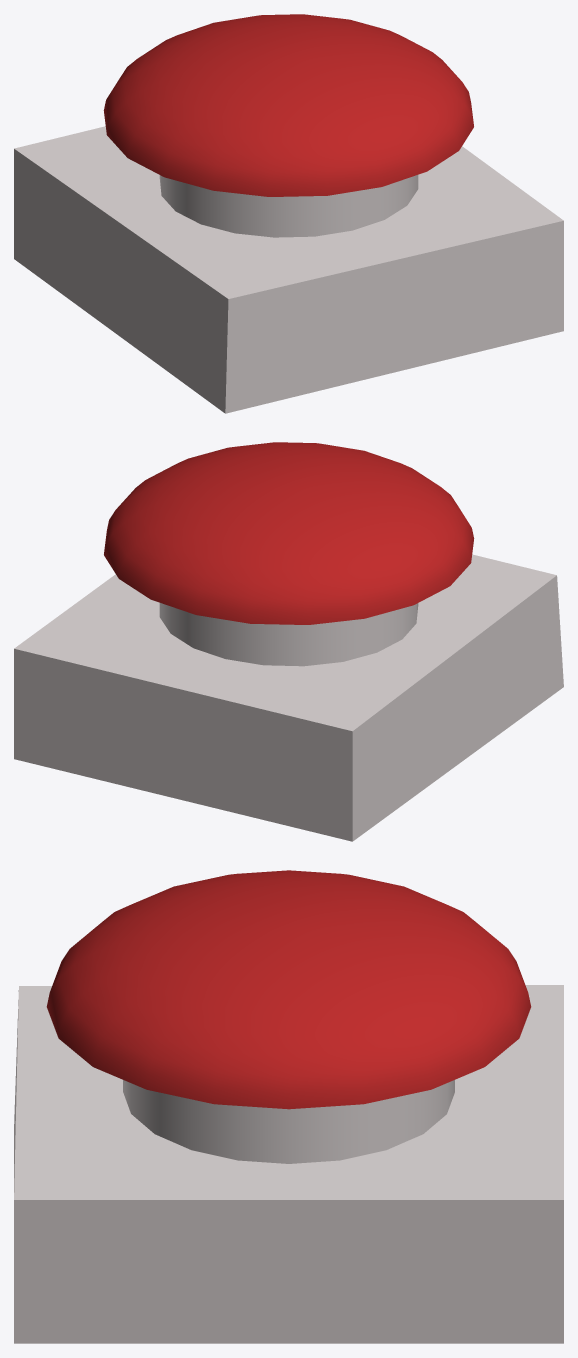
The model's file is Bouton.fbx.
3 renders of one model, top to bottom at view 1: azimuth 30°, elevation 25°; view 2: azimuth 150°, elevation 25°; view 3: azimuth 270°, elevation 25°, orthographic. The views are drawn at different scales.
Parts seen in each view (by area): view 1: pCube1, pSphere1, pCylinder1; view 2: pCube1, pSphere1, pCylinder1; view 3: pCube1, pSphere1, pCylinder1.
Part boxes in pixels (x1,y1,x2,y2): pCube1: (14,126,563,413); pSphere1: (103,14,473,196); pCylinder1: (159,175,418,237); pCube1: (14,554,563,841); pSphere1: (104,442,474,624); pCylinder1: (159,603,418,666); pCube1: (14,985,563,1343); pSphere1: (46,870,531,1109); pCylinder1: (123,1080,454,1163).
Size of the model in its own units: 1.61 by 1.12 by 1.74.
